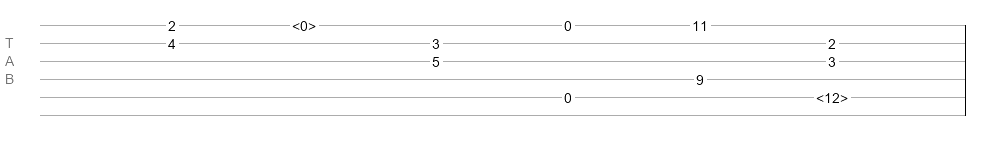0: (564, 90, 572, 100), (564, 18, 572, 28)
11: (692, 18, 708, 28)
2: (168, 18, 176, 28), (828, 36, 836, 46)
3: (432, 36, 440, 46), (828, 54, 836, 64)
4: (168, 36, 176, 46)
5: (432, 54, 440, 64)
9: (696, 72, 704, 82)
harmonic: (816, 90, 848, 100), (292, 18, 316, 28)
